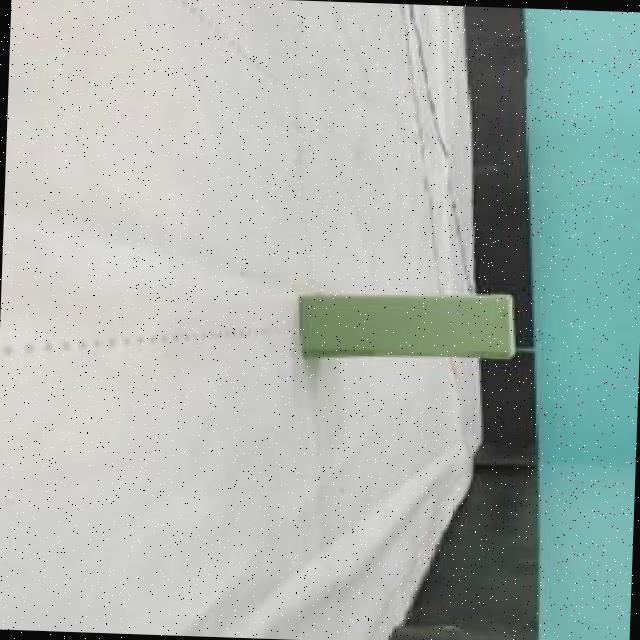greenbox: (294, 284, 520, 366)
